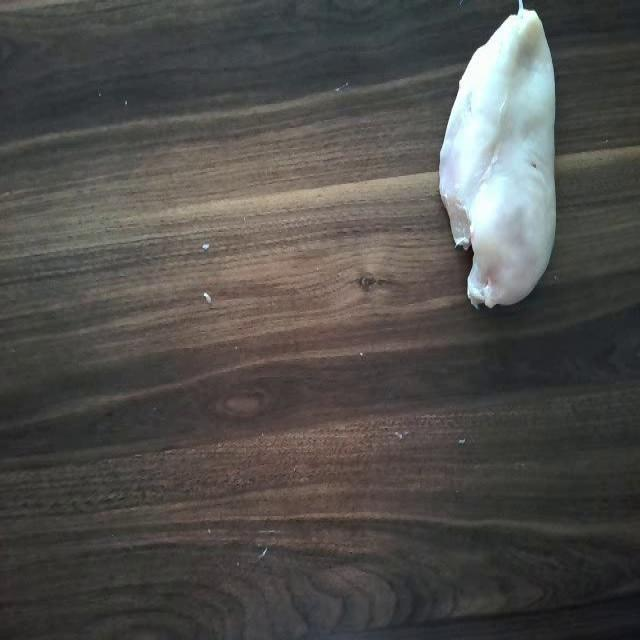breast: (440, 9, 560, 297)
